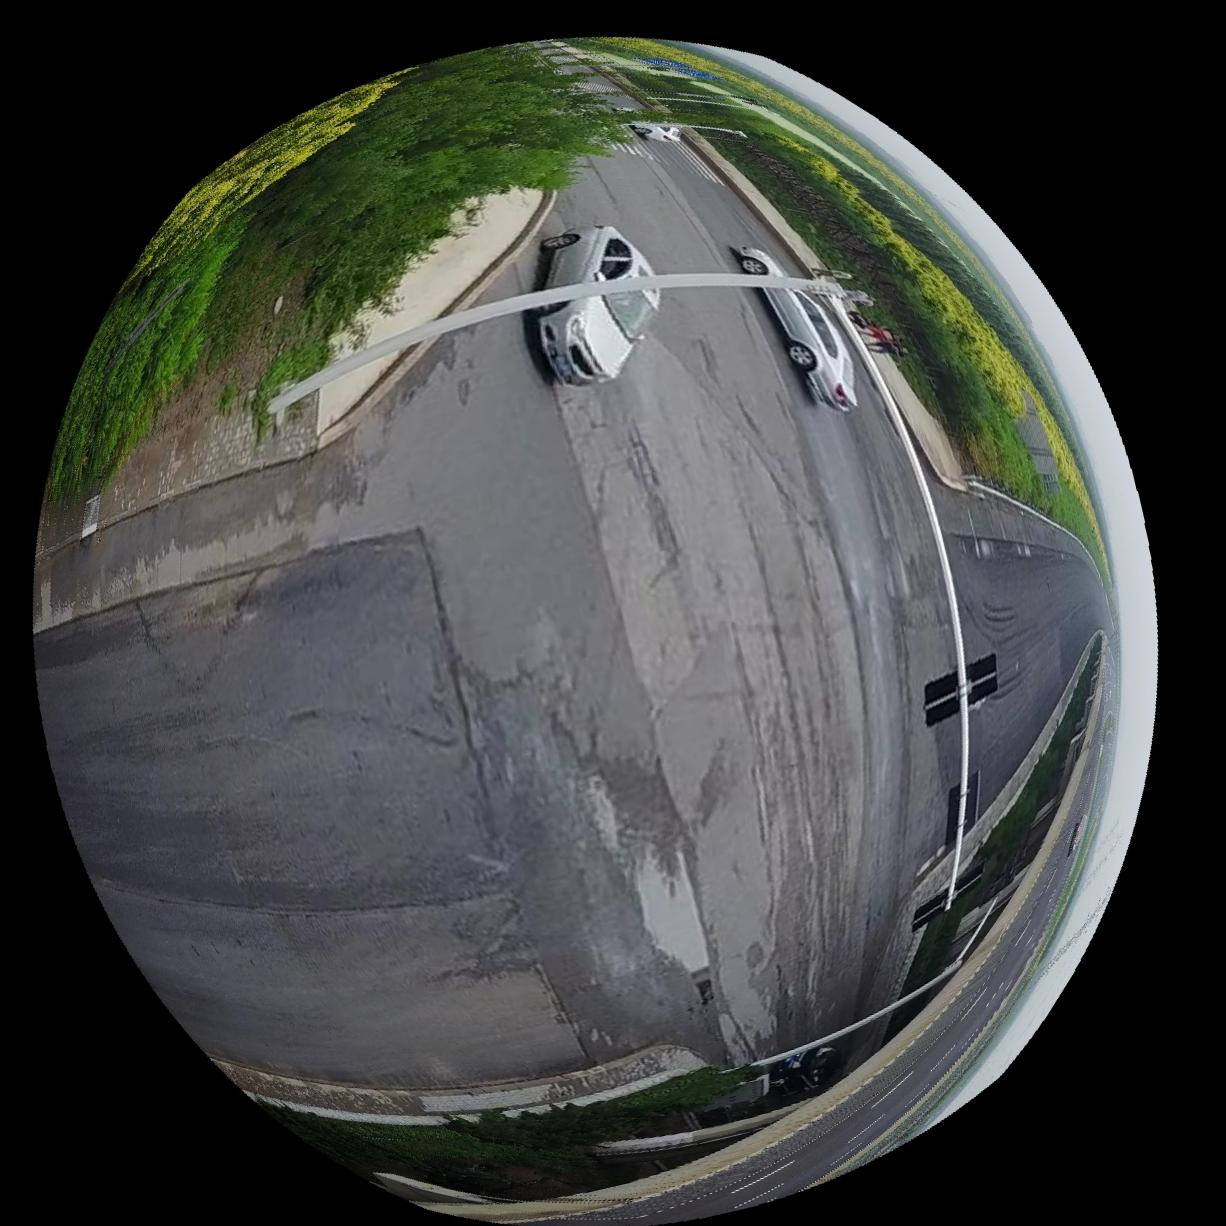cars: (533, 291, 658, 387), (764, 287, 857, 413), (539, 224, 652, 287), (739, 247, 785, 274), (628, 119, 681, 141)
trees: (47, 44, 623, 499), (700, 58, 1110, 572), (269, 1068, 795, 1204), (904, 641, 1102, 993)
